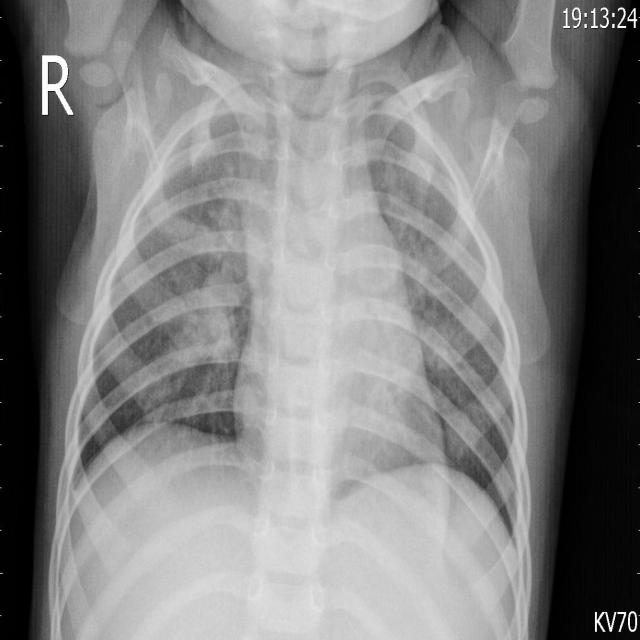low-pneumonia: (146, 266, 244, 423), (383, 206, 469, 377)
